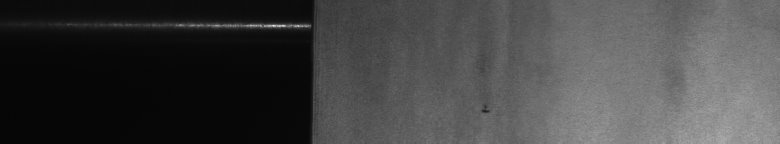fi: (476, 68, 497, 120)
